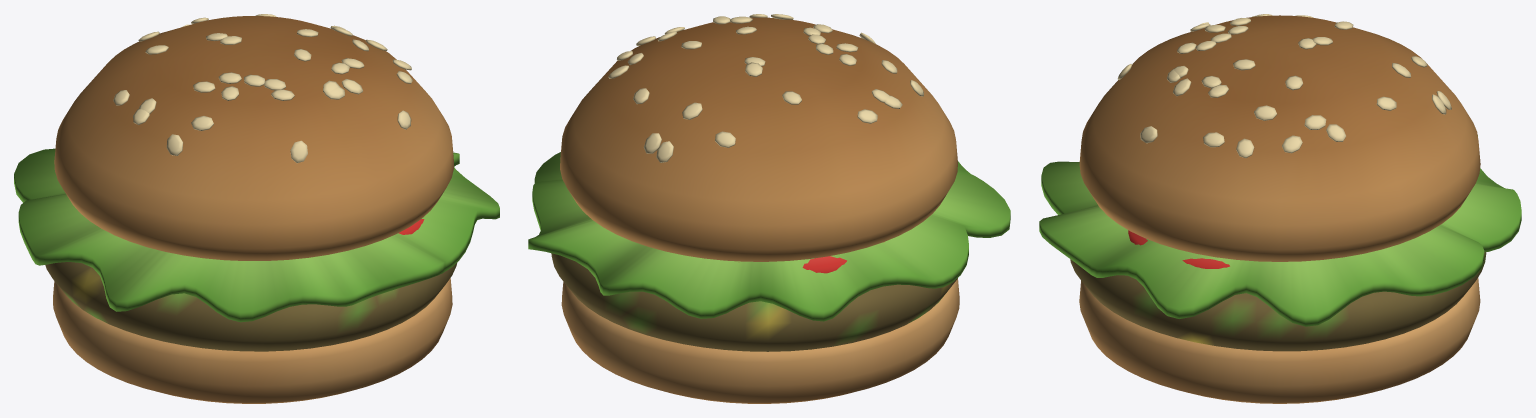
Rendered from garden_burger.glb.
3 renders of one model, left to right at view 1: azimuth 30°, elevation 25°; view 2: azimuth 150°, elevation 25°; view 3: azimuth 270°, elevation 25°, orthographic.
Visible parts, largest first — view 1: BunTop, Lettuce, BunBottom, Patty, Oats; view 2: BunTop, Lettuce, BunBottom, Patty, Oats, Tomato2; view 3: BunTop, Lettuce, BunBottom, Patty, Oats, Tomato.
Boxes of the visible parts, x1,y1,x2,y2 form: BunTop: (54,16,453,260); Lettuce: (14,148,499,322); BunBottom: (53,278,452,403); Patty: (45,262,456,351); Oats: (113,14,412,163); BunTop: (560,17,957,261); Lettuce: (528,152,1010,321); BunBottom: (561,278,959,403); Patty: (551,253,957,351); Oats: (608,14,923,162); Tomato2: (802,256,846,273); BunTop: (1079,15,1480,261); Lettuce: (1039,135,1521,326); BunBottom: (1079,277,1480,403); Patty: (1070,252,1486,351); Oats: (1117,14,1451,158); Tomato: (1128,230,1229,268).
Size of the model in its own units: 0.1332 by 0.0866 by 0.1323.
